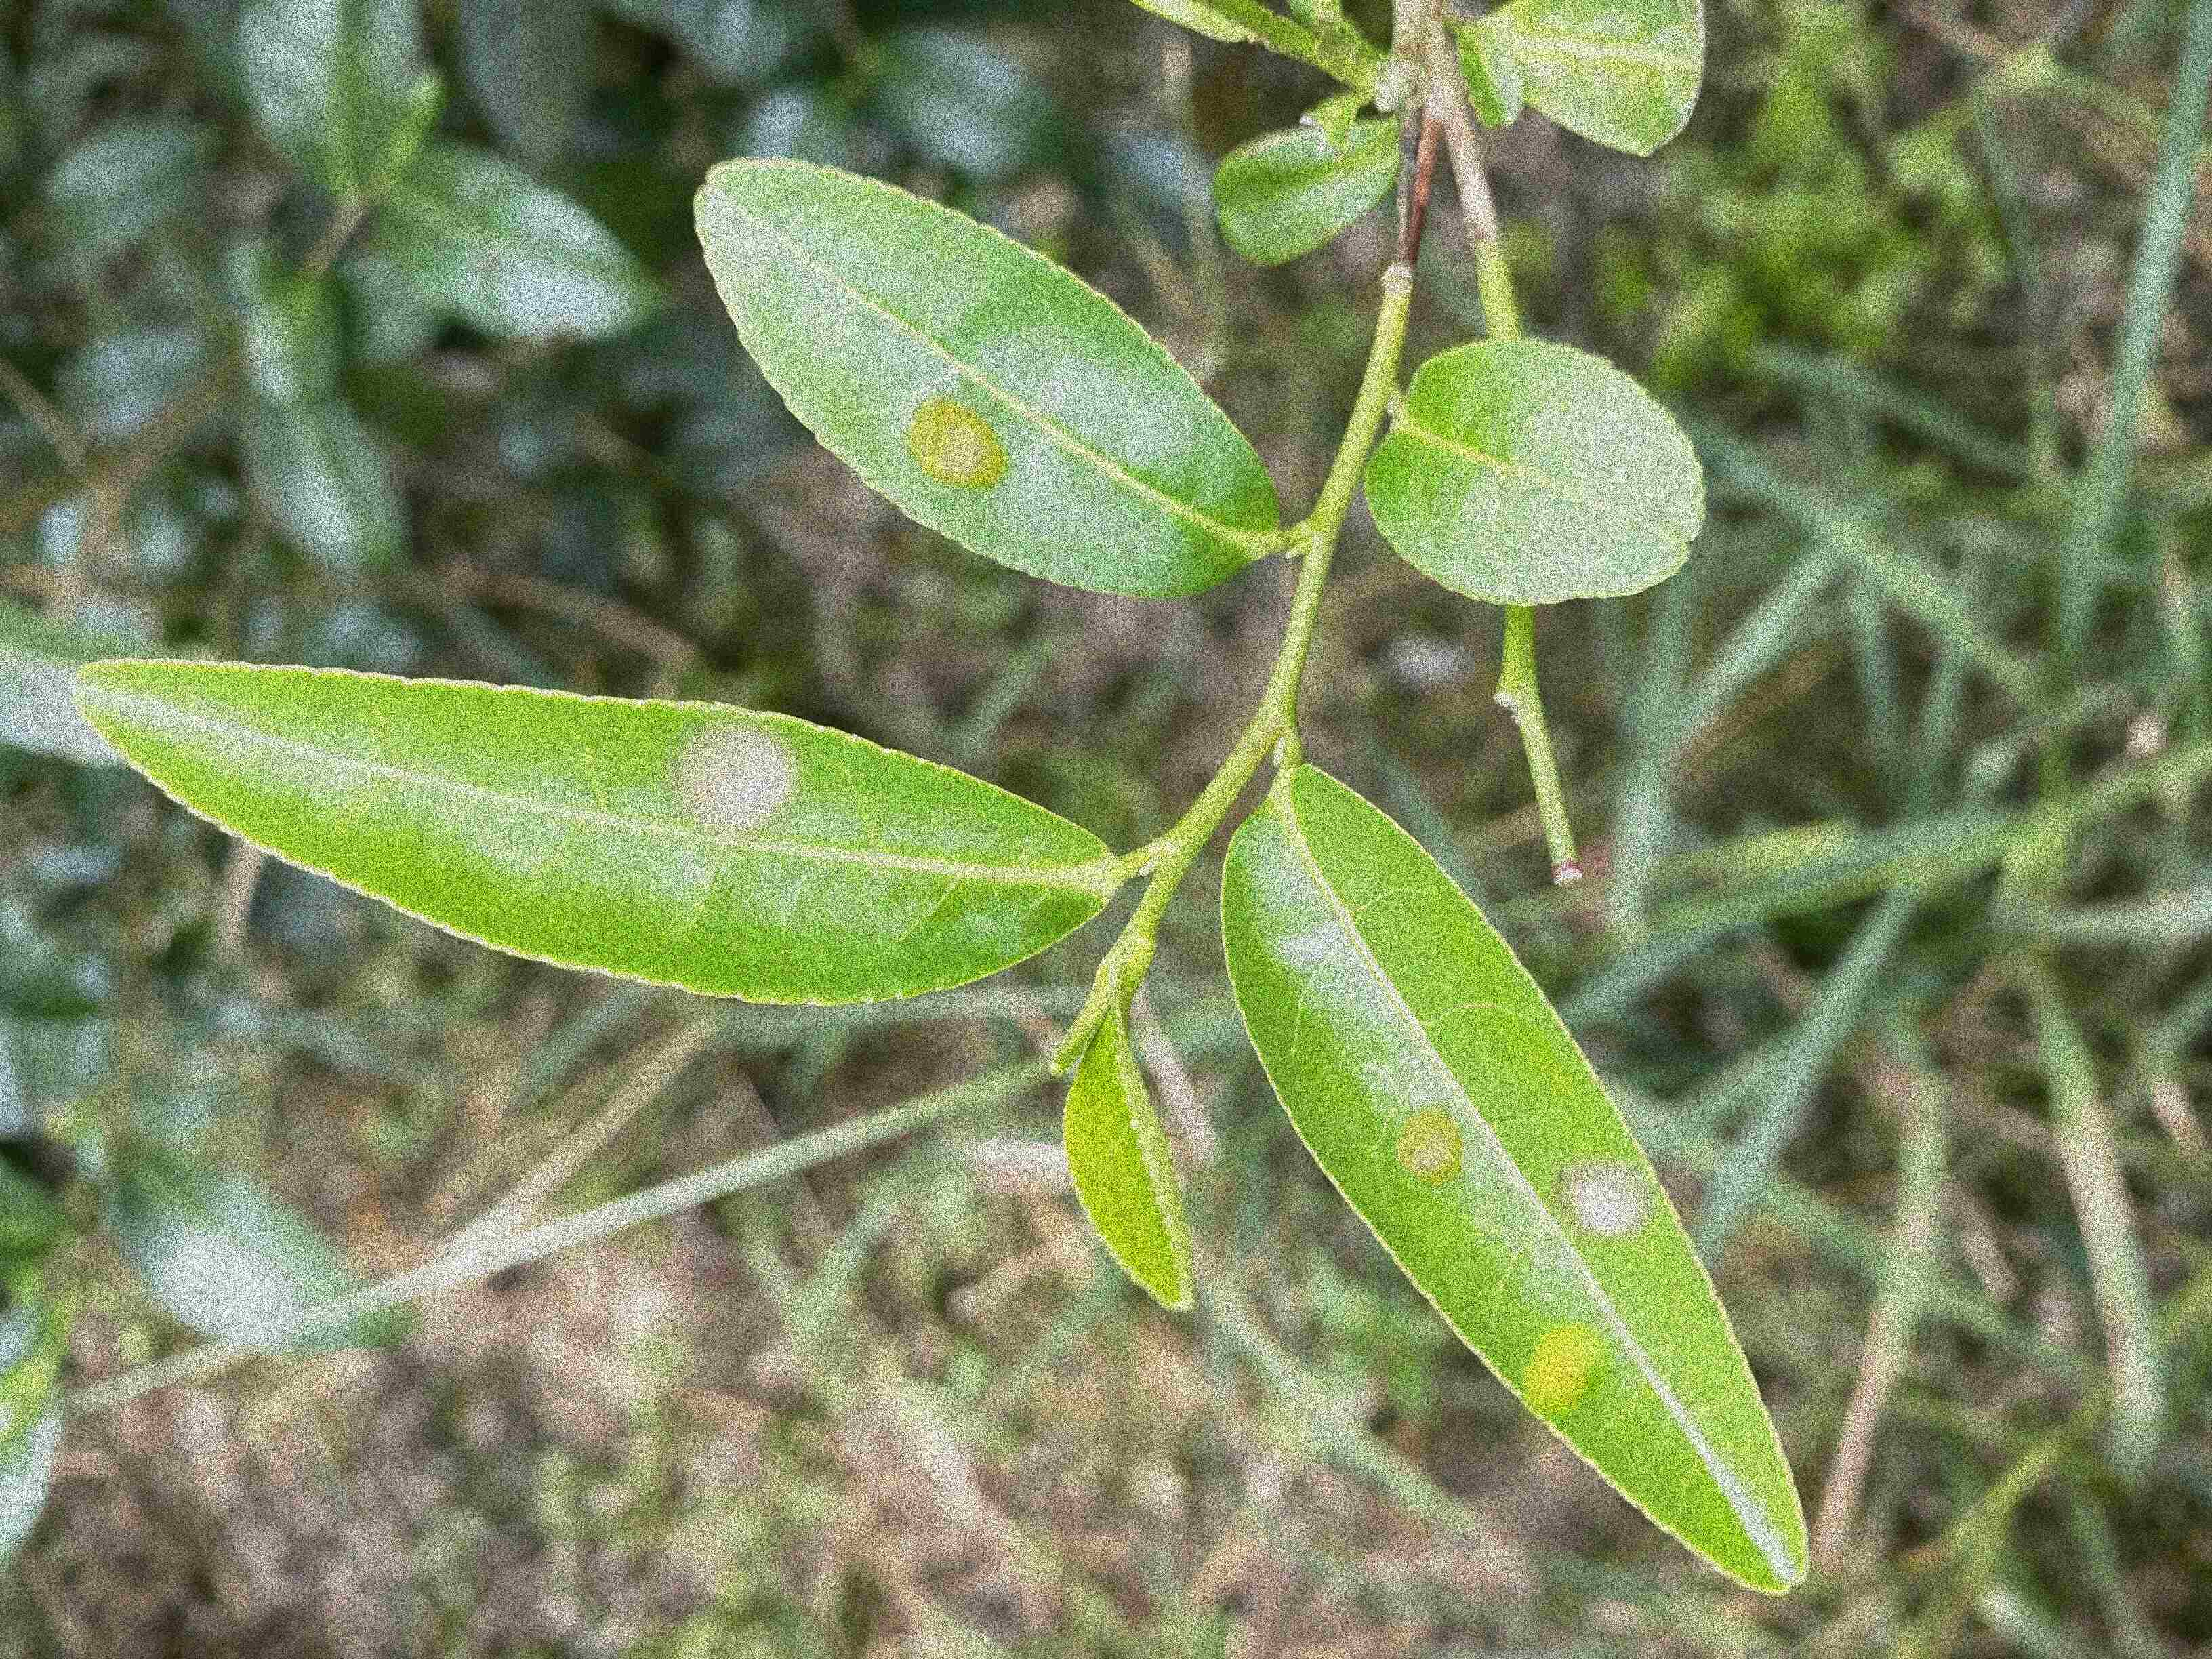chabing_high: (1219, 762, 1810, 1600)
chabing_low: (71, 659, 1125, 1007), (691, 155, 1284, 603)
healthy: (1362, 336, 1710, 610), (1061, 983, 1197, 1310)
